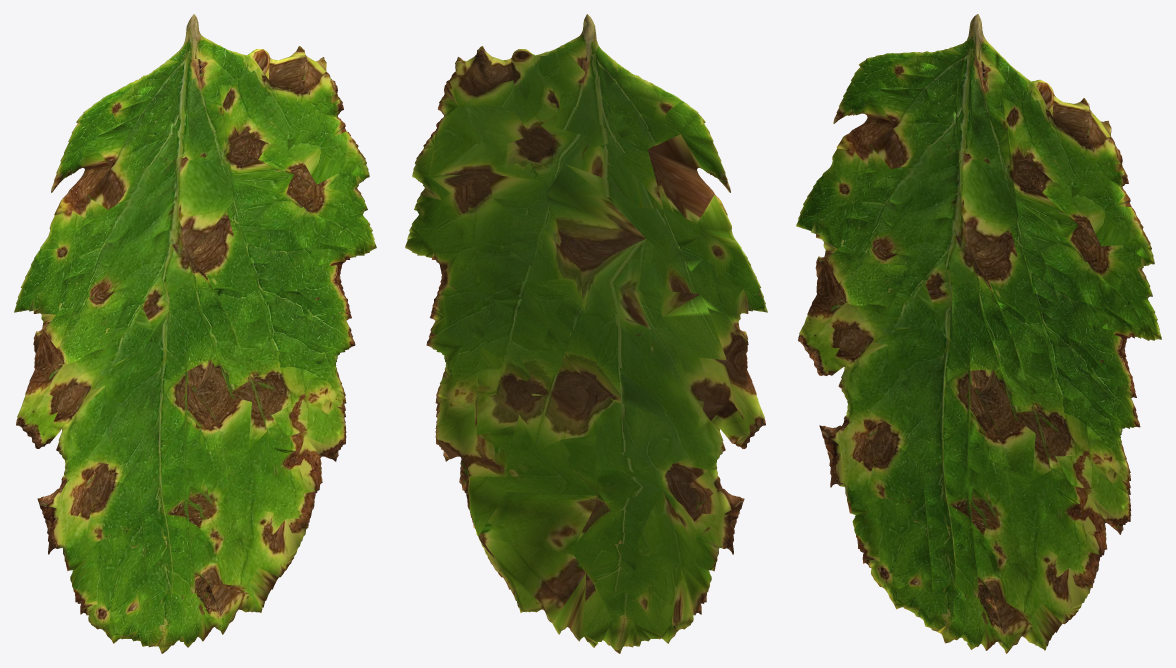
Rendered from tomato_early_blight.glb.
3 renders of one model, left to right at view 1: azimuth 30°, elevation 25°; view 2: azimuth 150°, elevation 25°; view 3: azimuth 330°, elevation 25°, orthographic.
Visible parts, largest first — view 1: tomato_early_blight; view 2: tomato_early_blight; view 3: tomato_early_blight.
Boxes of the visible parts, x1,y1,x2,y2 form: tomato_early_blight: (14,14,376,653); tomato_early_blight: (405,14,767,653); tomato_early_blight: (796,14,1161,653).
Size of the model in its own units: 0.6006 by 1 by 0.00287.
1 material, 1 textured.
